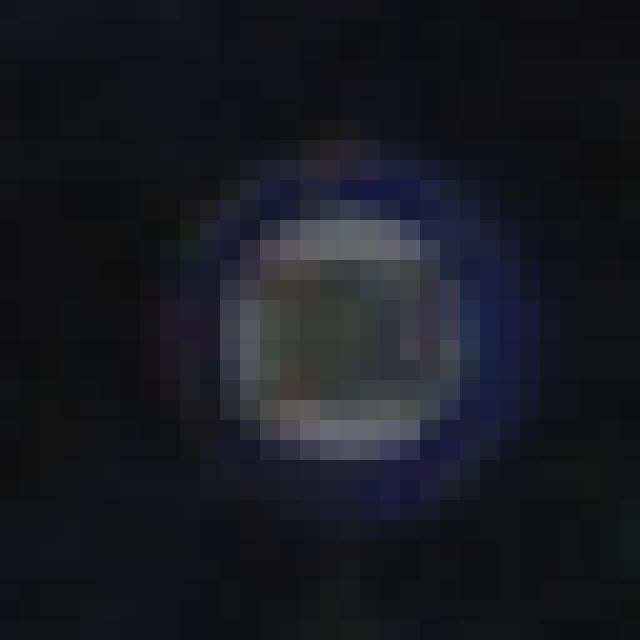SPEED LIMIT 100: (171, 157, 529, 503)
